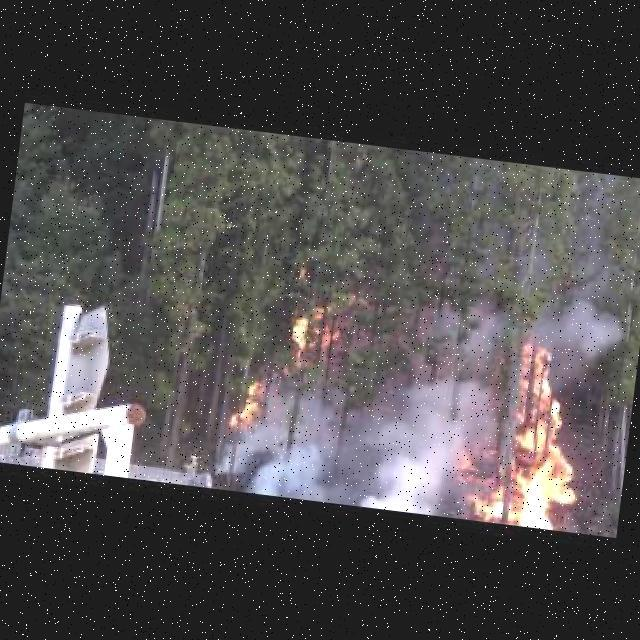Fire: (453, 329, 601, 531), (294, 306, 345, 373), (231, 376, 269, 430)
